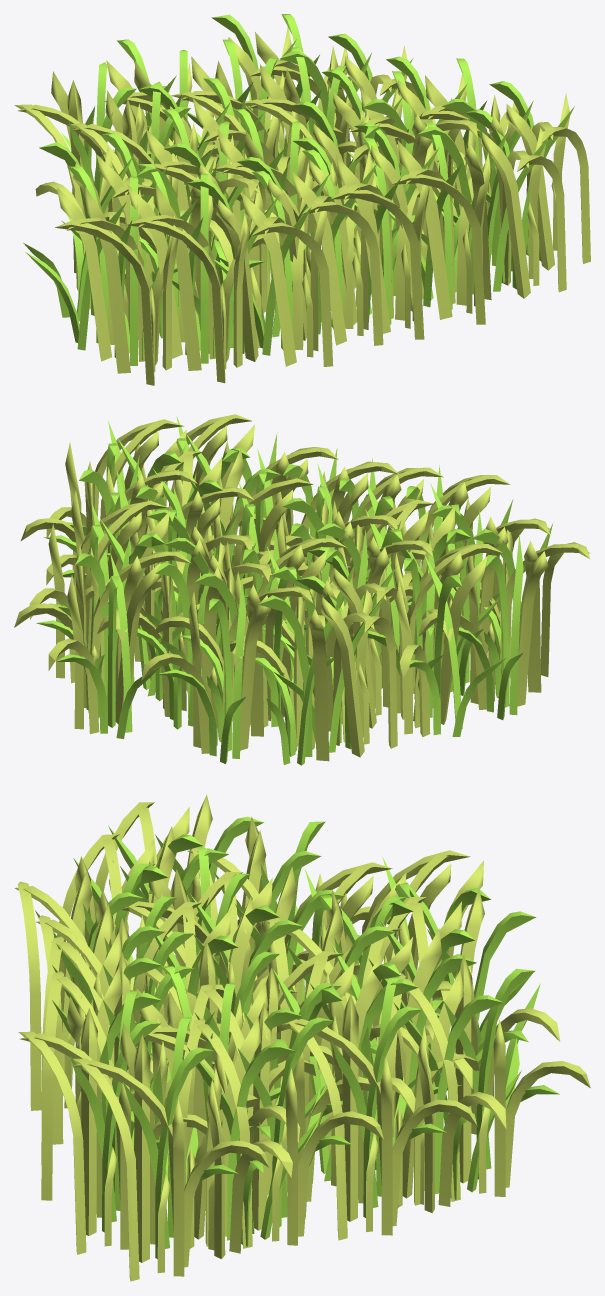
The model's file is grass3.FBX.
3 renders of one model, top to bottom at view 1: azimuth 30°, elevation 25°; view 2: azimuth 150°, elevation 25°; view 3: azimuth 270°, elevation 25°, orthographic. The views are drawn at different scales.
Visible parts, largest first — view 1: Bundle 3; view 2: Bundle 3; view 3: Bundle 3.
Part boxes in pixels (box(x1,y1,x2,y2)): Bundle 3: box(14, 14, 590, 385); Bundle 3: box(14, 414, 590, 765); Bundle 3: box(14, 794, 590, 1281).
Bounding box in the file's own units: 487 × 154 × 397.
